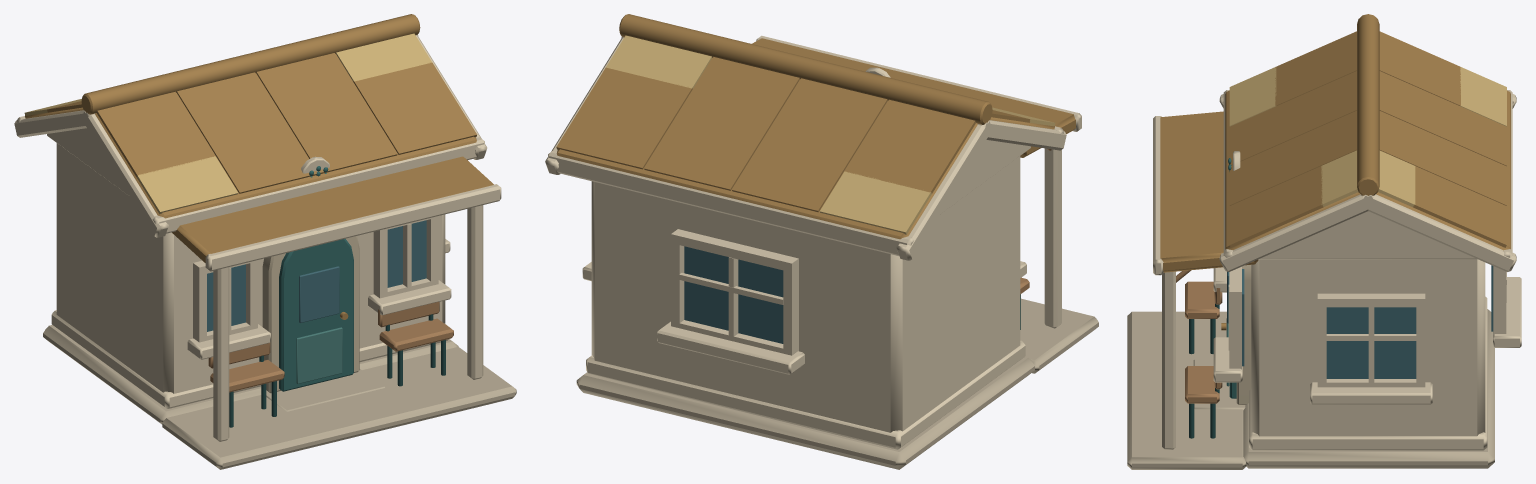
Rendered from town_hall_level_2.glb.
3 views of the same model, side by side, from view 1: azimuth 30°, elevation 25°; view 2: azimuth 150°, elevation 25°; view 3: azimuth 270°, elevation 25° (orthographic). The views are drawn at different scales.
Parts seen in each view (by area): view 1: town_hall_level_2_runtime; view 2: town_hall_level_2_runtime; view 3: town_hall_level_2_runtime.
Boxes of the visible parts, left/top/right/bottom form: town_hall_level_2_runtime: left=14, top=14, right=516, bottom=469; town_hall_level_2_runtime: left=545, top=14, right=1098, bottom=469; town_hall_level_2_runtime: left=1127, top=14, right=1521, bottom=469.
Size of the model in its own units: 3.71 by 3.1 by 3.67.
